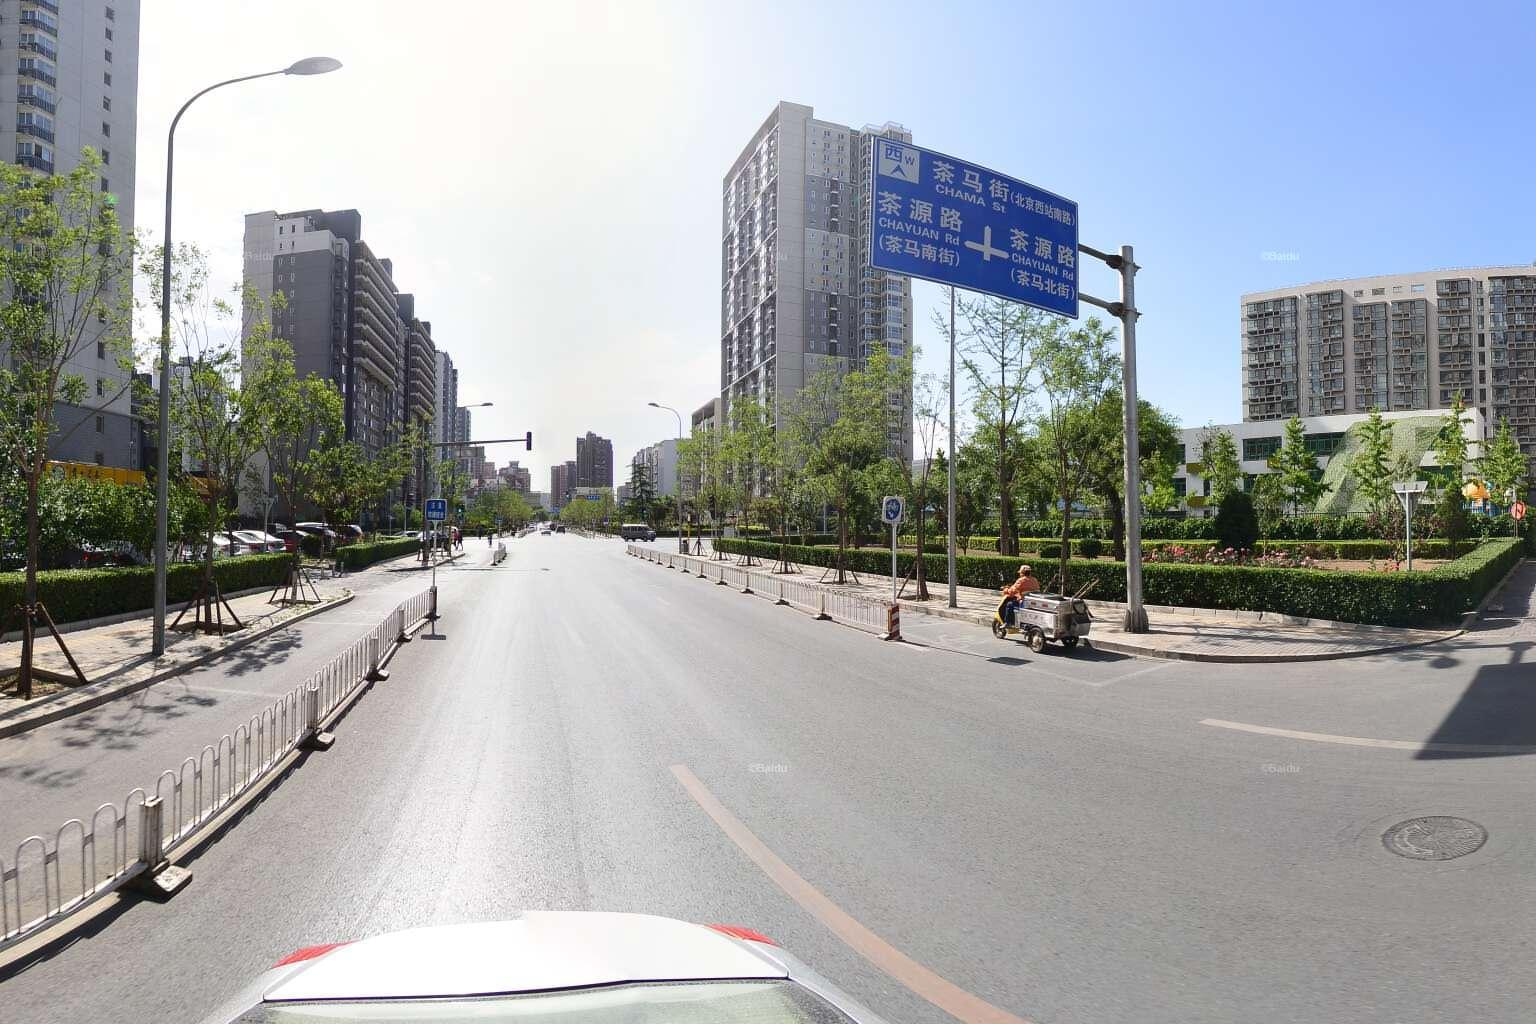trafficsign: (867, 130, 1089, 328), (424, 495, 449, 526)
